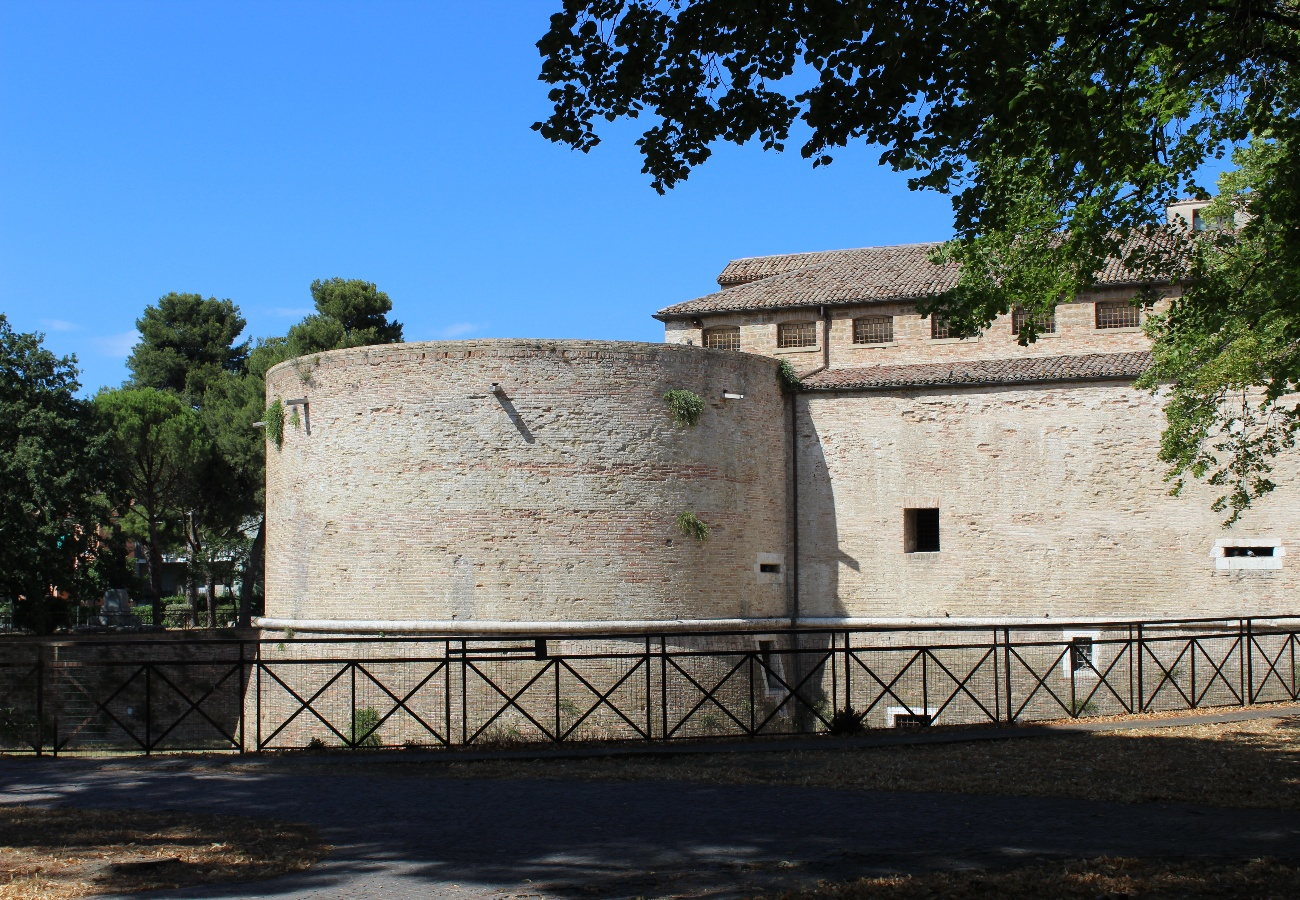Rocca Costanza: (255, 245, 1300, 750)
